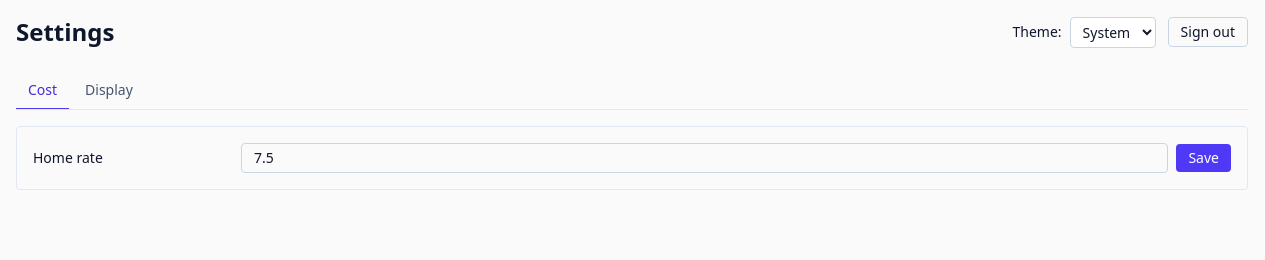
SettingsPage › renders settings grouped into tabs by group_name
Expected: the heading "Settings" is shown, 16,16 -> 114,48
Expected: the text "Home rate" is shown, 33,148 -> 103,167
Click the tab with test id "settings-tab-display" at (109,91), box 73,72 -> 145,110
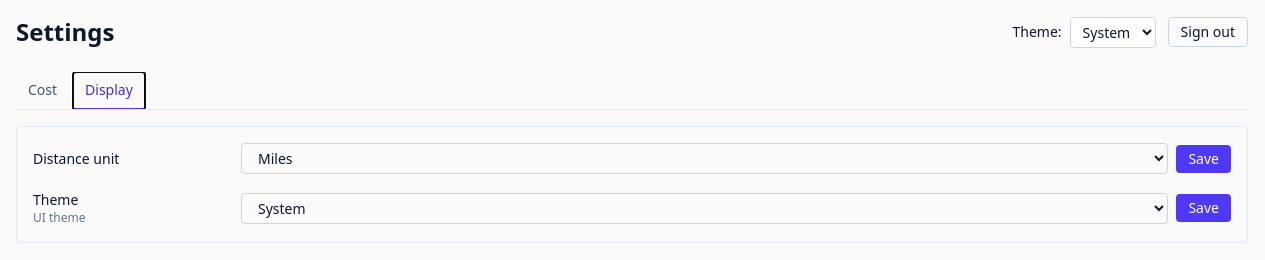
Result: the text "Distance unit" is shown at 33,148 -> 119,168
Result: the text "Theme" is shown at 33,190 -> 78,209
